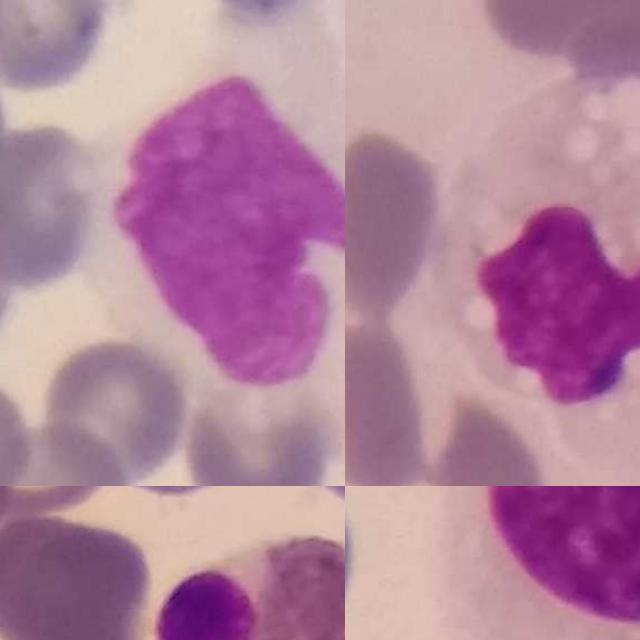Eosinophil: (155, 535, 345, 640)
Lymphocyte: (442, 486, 640, 640)
Monocyte: (116, 11, 345, 411), (440, 74, 640, 449)
